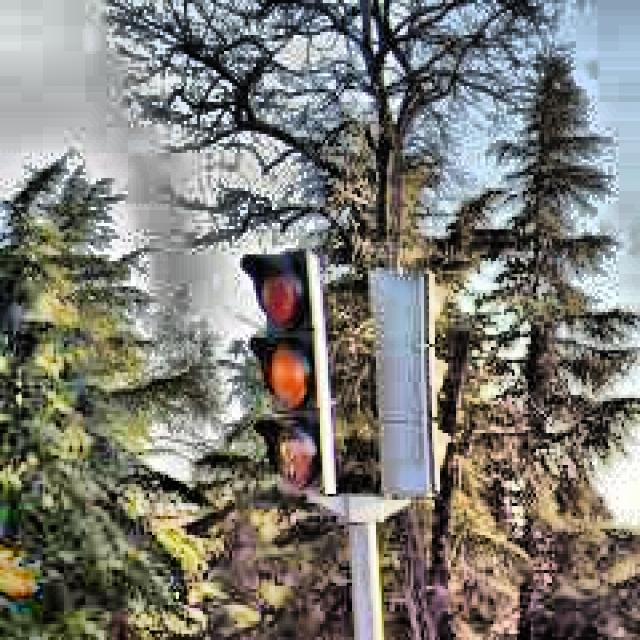yellow: (262, 252, 314, 493)
